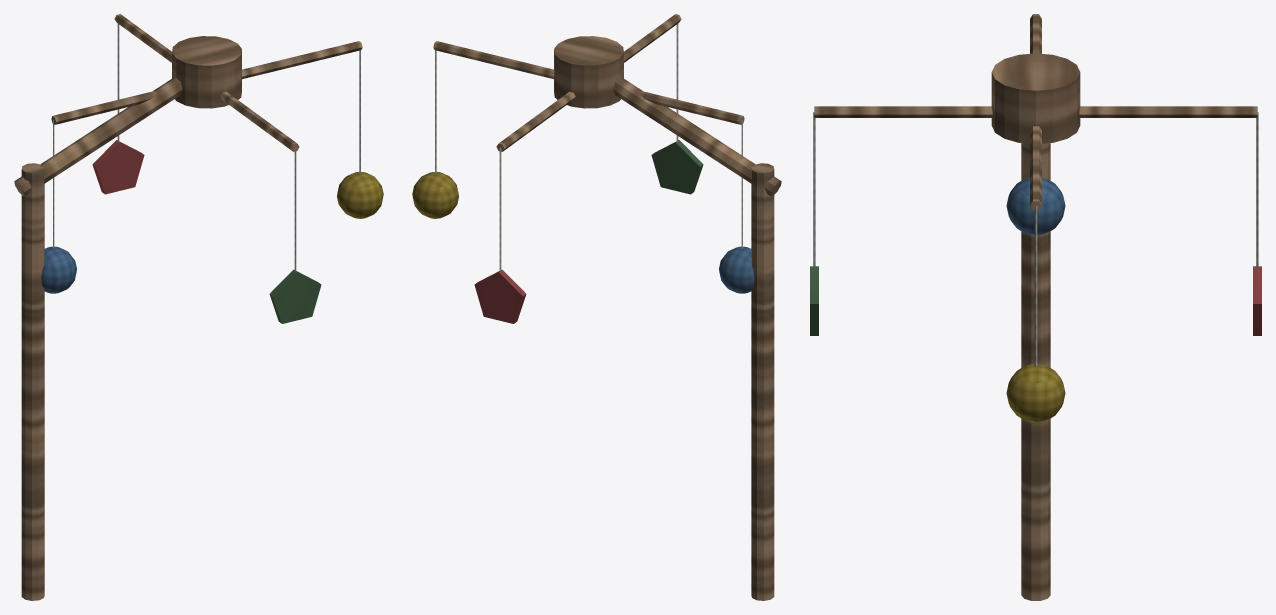
File: TY39_MusicalCotMobile.glb
3 renders of one model, left to right at view 1: azimuth 30°, elevation 25°; view 2: azimuth 150°, elevation 25°; view 3: azimuth 270°, elevation 25°, orthographic. The views are drawn at different scales.
Visible parts, largest first — view 1: TY39_MusicalCotMobile; view 2: TY39_MusicalCotMobile; view 3: TY39_MusicalCotMobile.
Boxes of the visible parts, x1,y1,x2,y2 form: TY39_MusicalCotMobile: (14,14,383,600); TY39_MusicalCotMobile: (412,14,781,600); TY39_MusicalCotMobile: (810,14,1261,600).
Bounding box in the file's own units: 0.3788 × 0.5 × 0.3255.
Materials: 6 (6 with a texture image).
